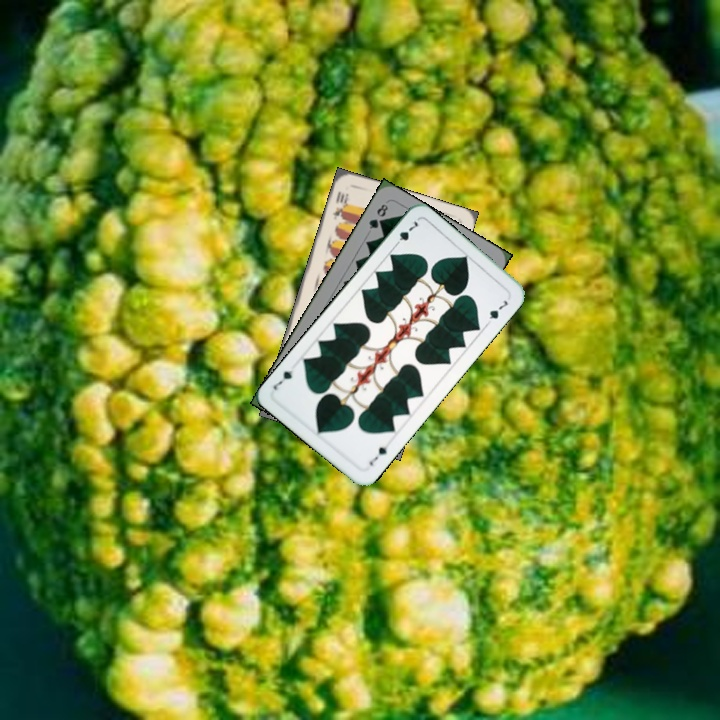E10: (329, 187, 351, 222)
G7: (390, 216, 421, 250), (365, 442, 390, 469)
G8: (365, 200, 391, 232)
